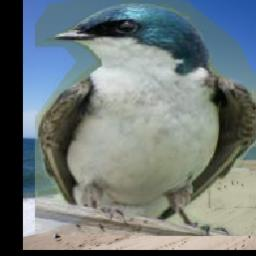Swallow: (34, 1, 256, 237)
